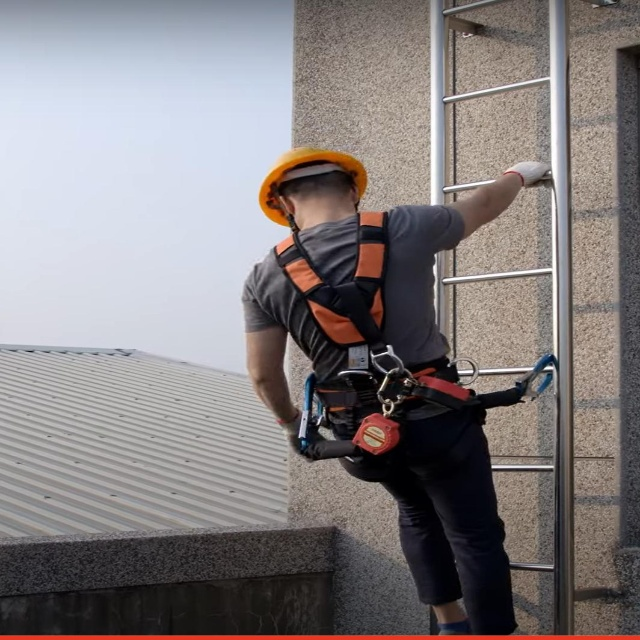Arnes_seguridad: (268, 211, 486, 478)
